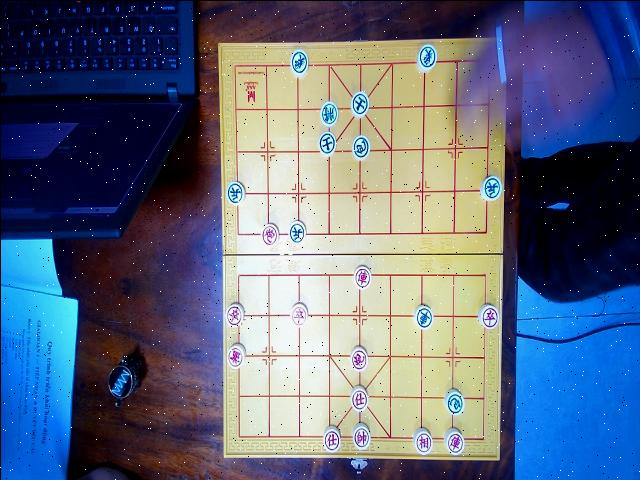piece: (415, 42, 436, 70), (288, 47, 308, 76), (479, 174, 501, 200), (477, 302, 498, 329), (412, 426, 432, 454), (443, 426, 463, 454), (443, 387, 463, 415), (322, 424, 341, 452), (351, 422, 370, 450), (224, 179, 244, 205), (225, 342, 245, 368), (412, 303, 432, 329), (225, 301, 244, 327), (349, 384, 367, 410), (317, 130, 335, 156), (349, 345, 367, 371), (351, 133, 369, 159), (319, 100, 337, 126), (353, 264, 371, 290), (350, 90, 368, 115), (290, 301, 307, 326), (260, 223, 278, 245), (289, 219, 305, 243)
